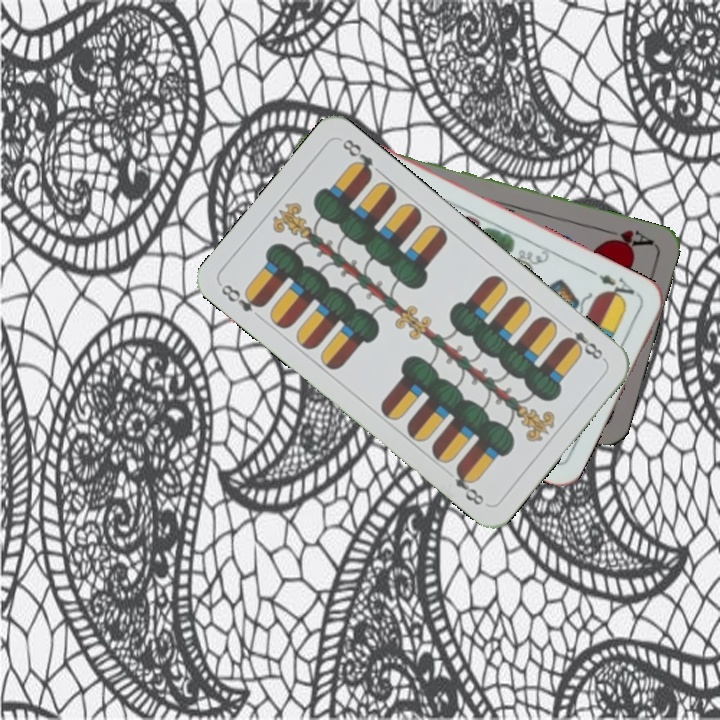E8: (559, 320, 608, 364), (217, 280, 267, 315)
EA: (594, 270, 643, 305)
HA: (597, 224, 656, 252)
